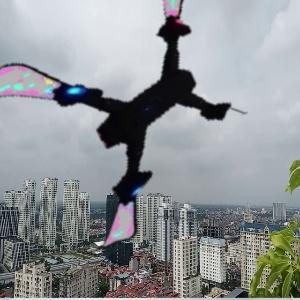drone: (3, 5, 246, 248)
